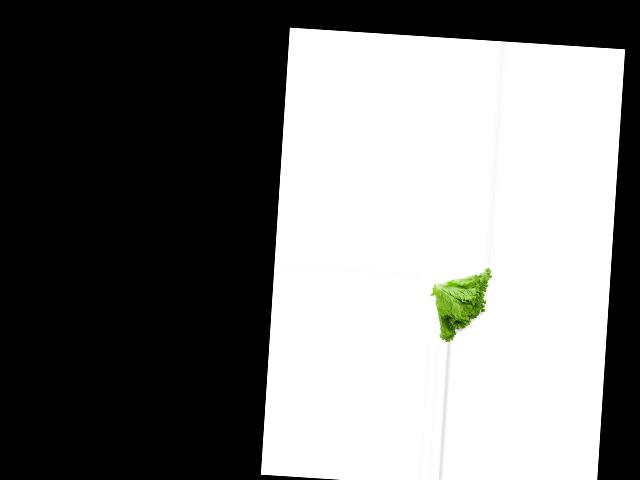lettuce: (429, 263, 493, 345)
